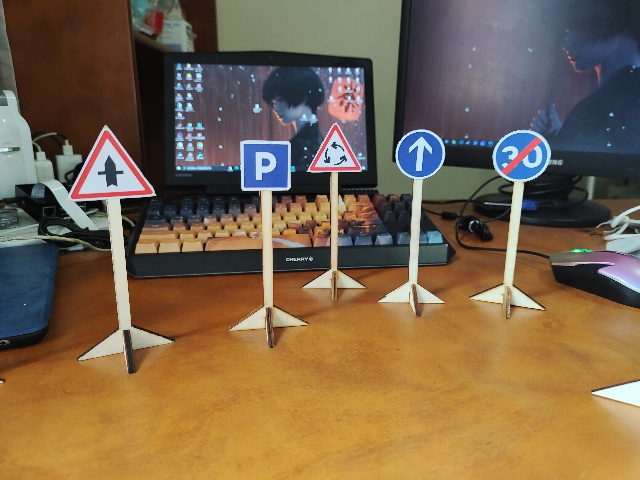P: (240, 139, 291, 192)
ban: (494, 128, 550, 183)
cycle: (306, 123, 358, 170)
first: (62, 125, 161, 197)
straight: (395, 129, 446, 178)
